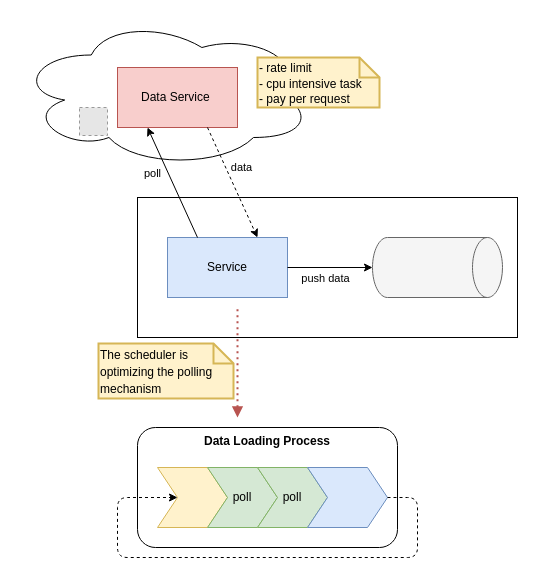
Some shapes in this 535 by 583 pixel diagram are drawn without their labels. Grey dashed boxes stand in for pictures. Here are the shapes that lost their labels. From the top down, the centre of each, then its label:
At point 437,267: "Kafka Topic".
At point 192,497: "wait".
At point 347,497: "empty".
